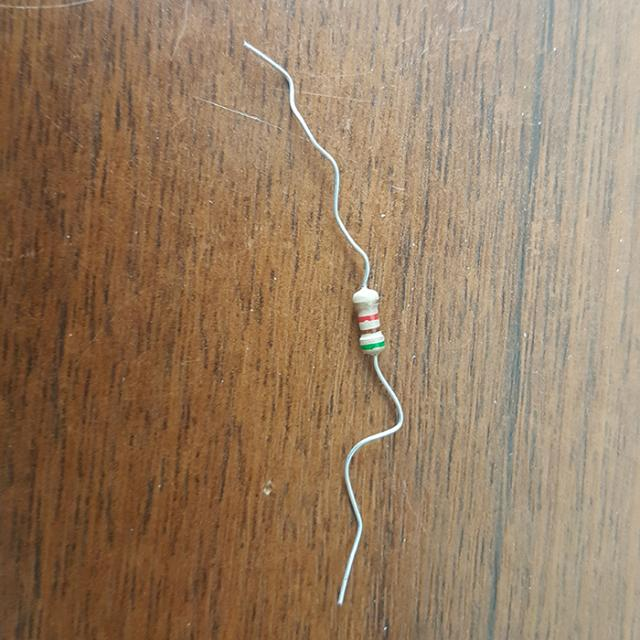brown: (361, 328, 381, 335)
gold: (356, 300, 377, 306)
green: (361, 342, 384, 350)
red: (358, 314, 379, 321)
resistor: (346, 285, 392, 360)
